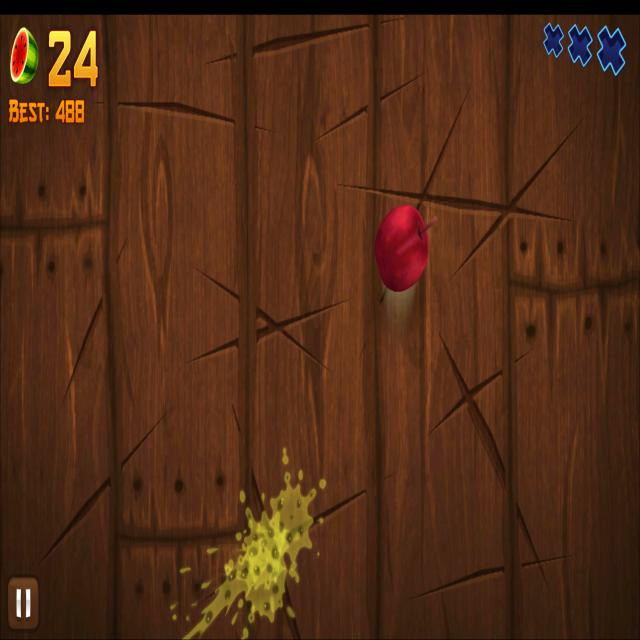fruit: (374, 202, 430, 294)
